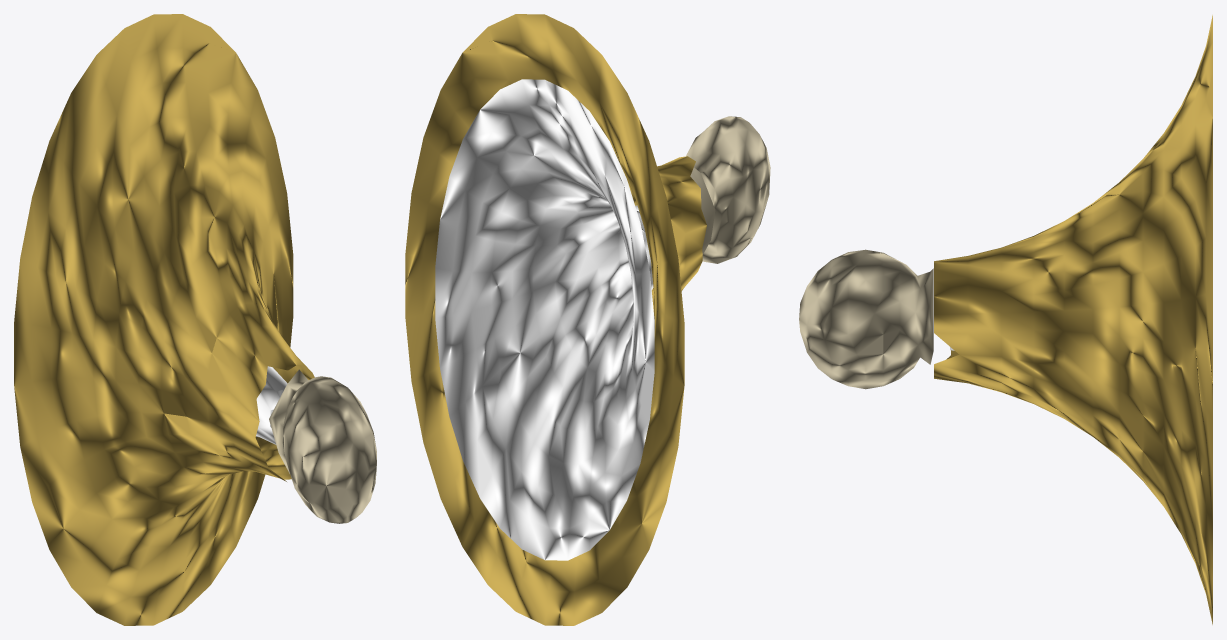
File: model_align.obj
The picture shows the model from 3 angles, left to right: view 1: azimuth 30°, elevation 25°; view 2: azimuth 150°, elevation 25°; view 3: azimuth 270°, elevation 25°; orthographic projection. The views are drawn at different scales.
Size of the model in its own units: 0.0475 by 0.0994 by 0.0624.
